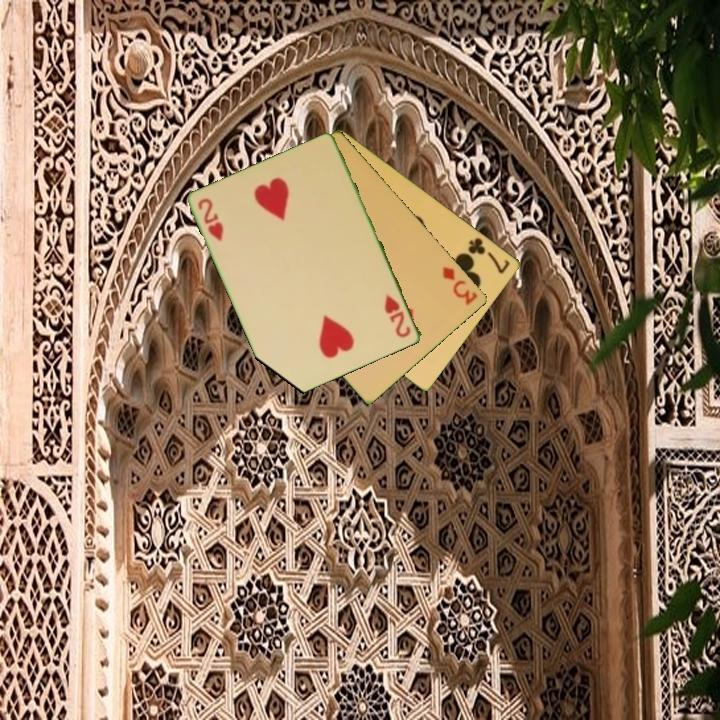2h: (381, 291, 414, 341), (195, 195, 227, 245)
3d: (439, 263, 481, 309)
7c: (465, 234, 513, 276)
